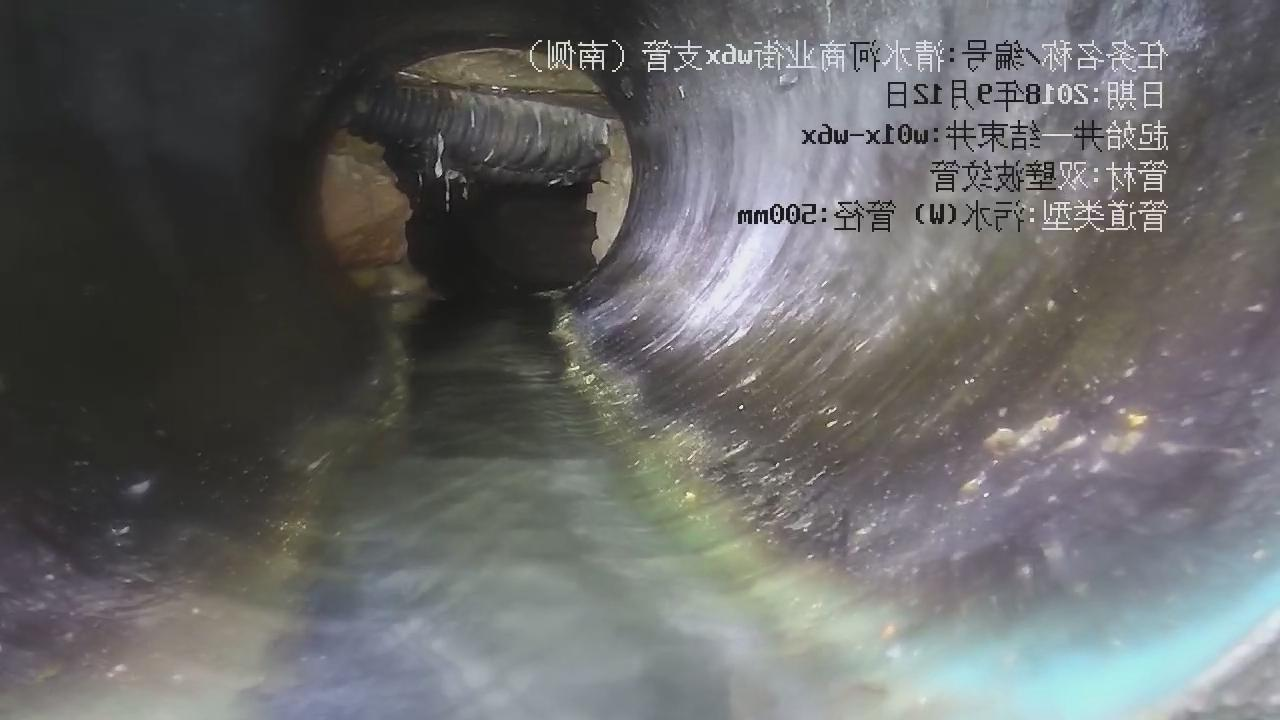YWCR: (351, 49, 619, 185)
